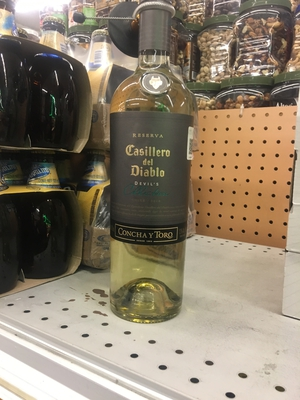casillero del diablo devils collection verde: (102, 9, 205, 318)
